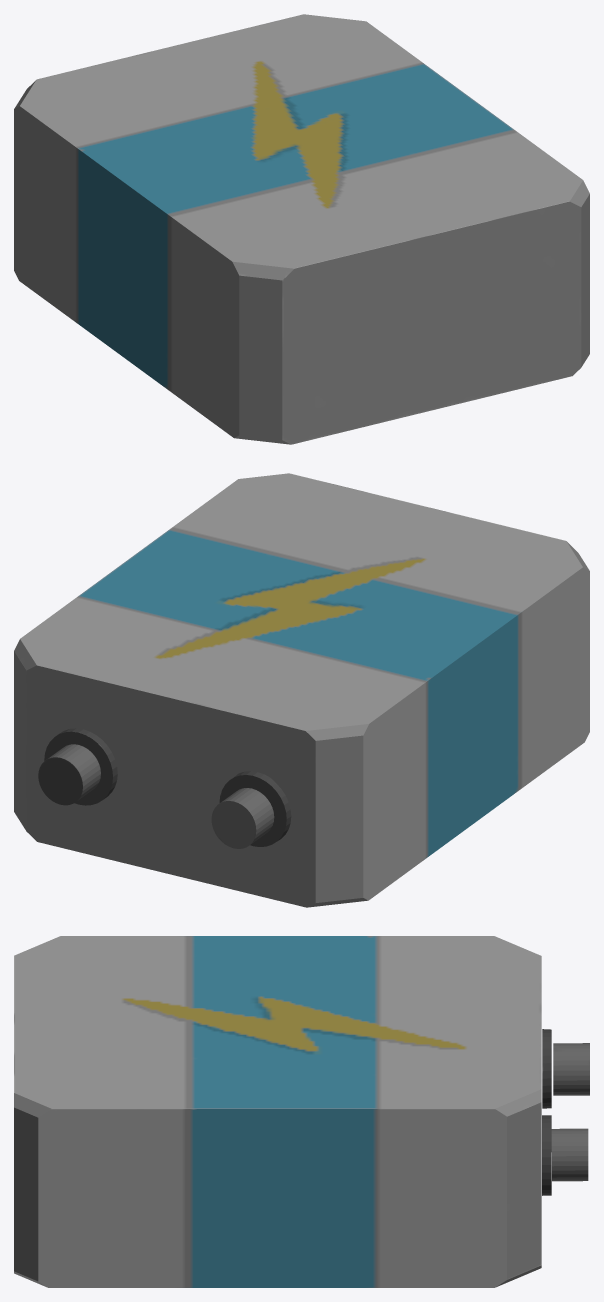
File: battery with texture.fbx
3 renders of one model, top to bottom at view 1: azimuth 30°, elevation 25°; view 2: azimuth 150°, elevation 25°; view 3: azimuth 270°, elevation 25°, orthographic. The views are drawn at different scales.
Visible parts, largest first — view 1: Cube; view 2: Cube; view 3: Cube.
Boxes of the visible parts, <box> form: Cube: <box>14,14,589,444</box>; Cube: <box>14,473,589,907</box>; Cube: <box>14,936,589,1287</box>.
Bounding box in the file's own units: 433 × 209 × 609.
1 material, 1 textured.
